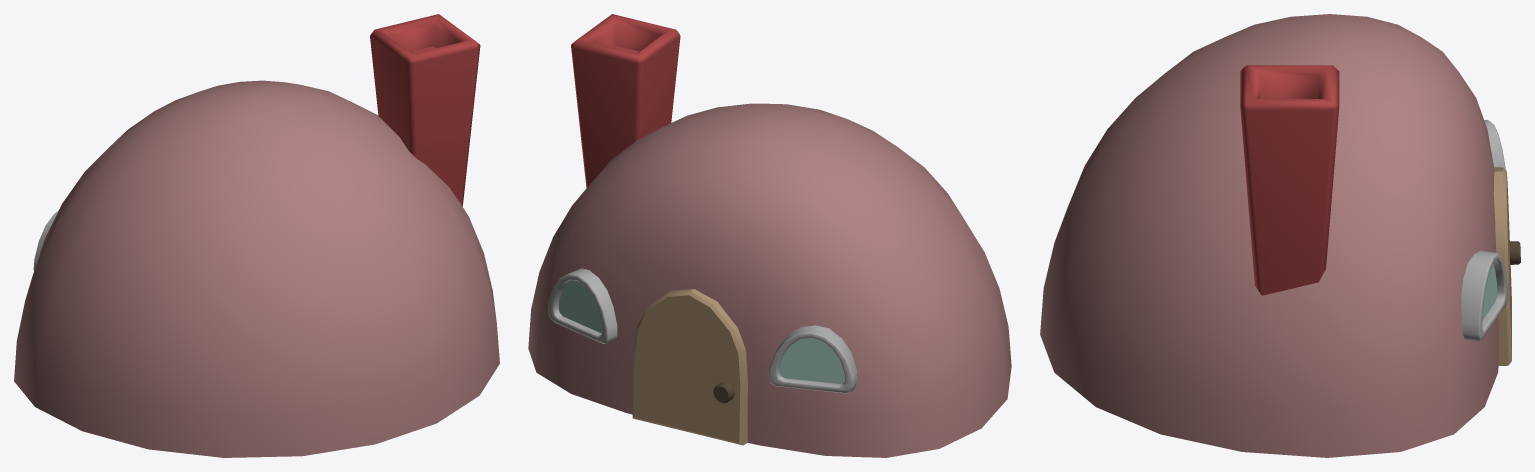
The model's file is MamasHouse.fbx.
3 renders of one model, left to right at view 1: azimuth 30°, elevation 25°; view 2: azimuth 150°, elevation 25°; view 3: azimuth 270°, elevation 25°, orthographic. The views are drawn at different scales.
Parts seen in each view (by area): view 1: house, chimney; view 2: house, door, chimney, windows; view 3: house, chimney, windows, door.
Boxes of the visible parts, x1,y1,x2,y2 form: house: (14,80,499,457); chimney: (370,14,480,206); house: (528,103,1011,457); door: (632,289,747,445); chimney: (571,14,680,187); windows: (548,268,857,393); house: (1040,14,1498,457); chimney: (1240,65,1339,295); windows: (1461,119,1507,340); door: (1493,167,1511,365).
Bounding box in the file's own units: 49.38 × 31.71 × 40.64.
